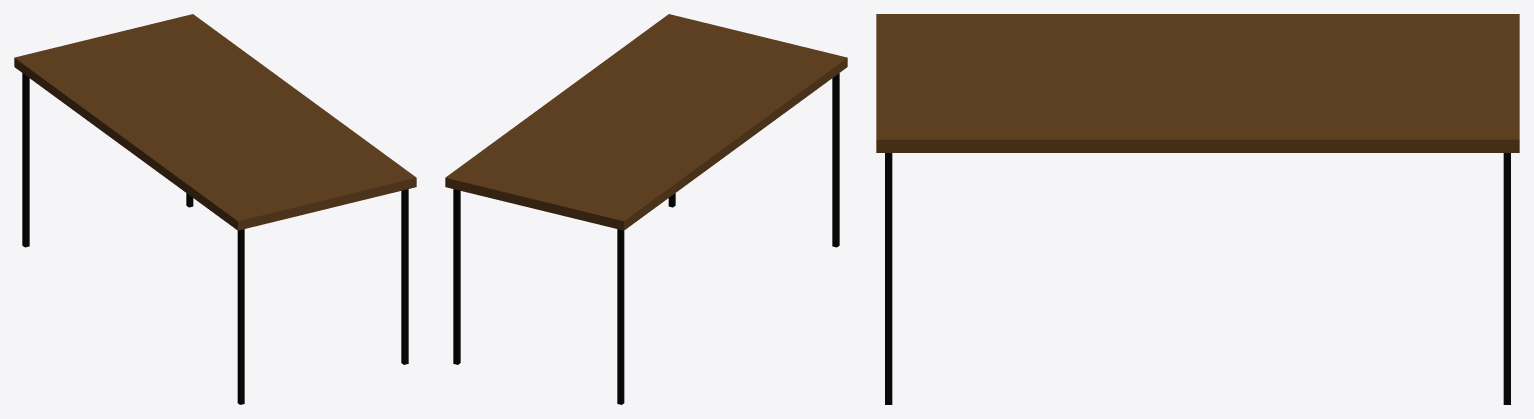
The model's file is Desk.fbx.
3 renders of one model, left to right at view 1: azimuth 30°, elevation 25°; view 2: azimuth 150°, elevation 25°; view 3: azimuth 270°, elevation 25°, orthographic. The views are drawn at different scales.
Parts seen in each view (by area): view 1: Cube, Cube.003, Cube.004, Cube.001; view 2: Cube, Cube.002, Cube.001, Cube.004; view 3: Cube, Cube.002, Cube.003.
Boxes of the visible parts, x1,y1,x2,y2 form: Cube: [14, 14, 416, 230]; Cube.003: [401, 189, 408, 364]; Cube.004: [237, 229, 244, 404]; Cube.001: [22, 73, 29, 247]; Cube: [445, 14, 847, 230]; Cube.002: [453, 189, 460, 364]; Cube.001: [617, 229, 624, 404]; Cube.004: [832, 73, 839, 247]; Cube: [876, 14, 1519, 152]; Cube.002: [1503, 153, 1510, 404]; Cube.003: [885, 153, 892, 404].
Size of the model in its own units: 1200 by 1200 by 2600.
